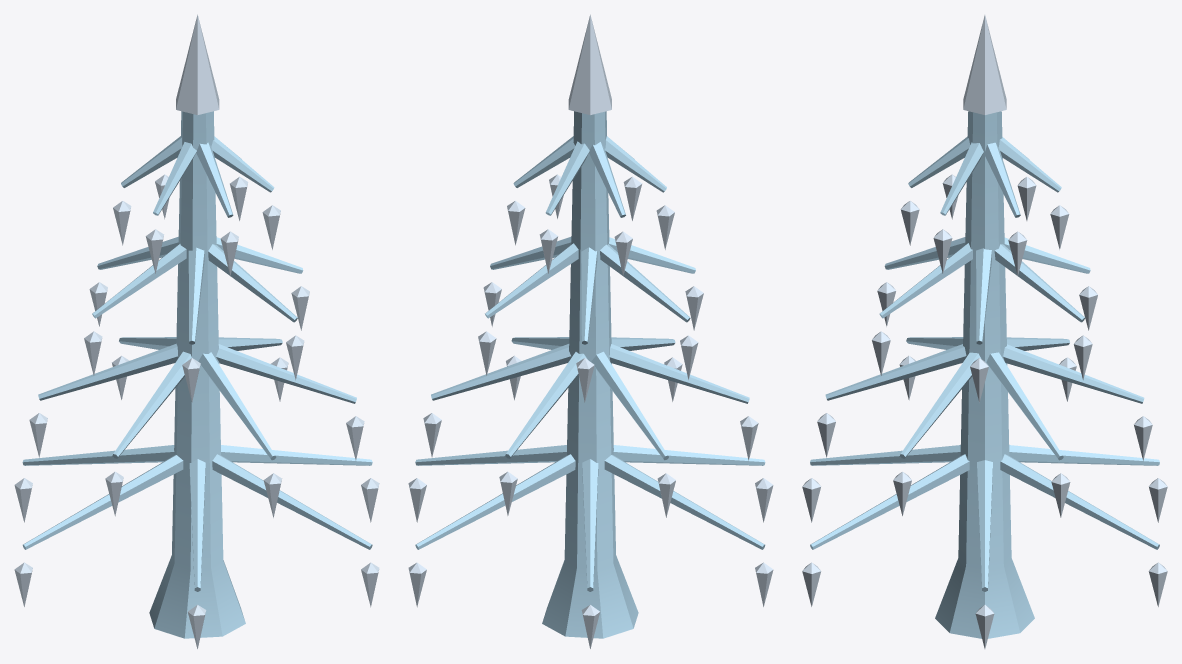
The model's file is baum_eis.obj.
3 renders of one model, left to right at view 1: azimuth 30°, elevation 25°; view 2: azimuth 150°, elevation 25°; view 3: azimuth 270°, elevation 25°, orthographic.
Parts seen in each view (by area): view 1: baum_eis_Koerper; view 2: baum_eis_Koerper; view 3: baum_eis_Koerper.
Part boxes in pixels (x1,y1,x2,y2): baum_eis_Koerper: (14, 14, 379, 648); baum_eis_Koerper: (408, 14, 773, 648); baum_eis_Koerper: (802, 15, 1167, 648).
Size of the model in its own units: 2.51 by 4 by 2.19.
